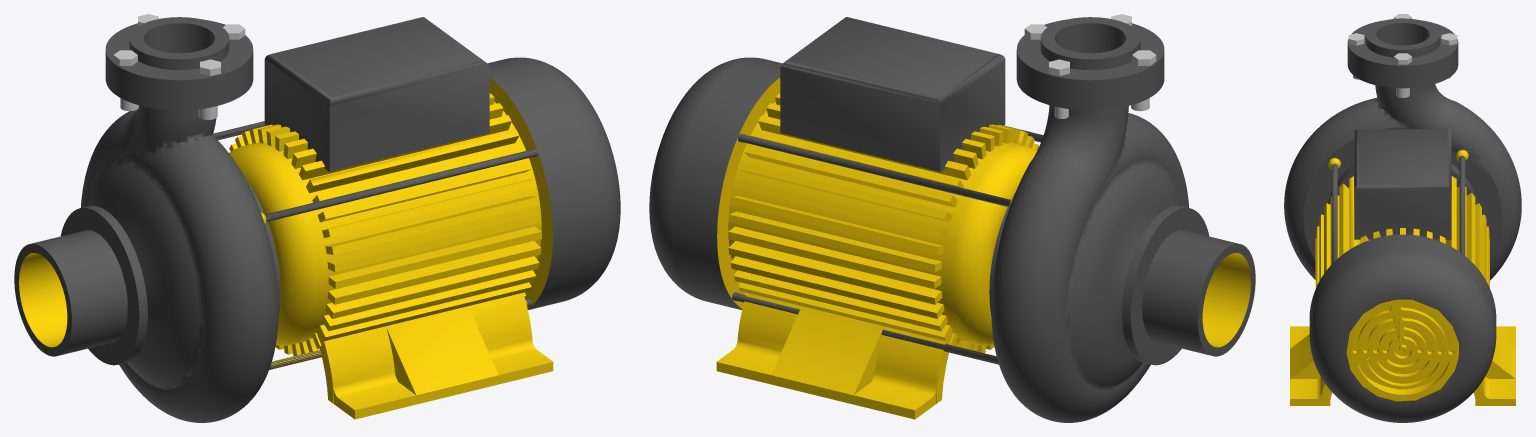
Rendered from WaterPump.fbx.
3 views of the same model, side by side, from view 1: azimuth 30°, elevation 25°; view 2: azimuth 150°, elevation 25°; view 3: azimuth 270°, elevation 25° (orthographic). The views are drawn at different scales.
Parts seen in each view (by area): view 1: 101.012; view 2: 101.012; view 3: 101.012.
Part boxes in pixels (left/top/right/bottom): 101.012: left=14, top=14, right=620, bottom=422; 101.012: left=649, top=14, right=1255, bottom=422; 101.012: left=1284, top=14, right=1521, bottom=422.
Size of the model in its own units: 77.58 by 51.8 by 39.99.
